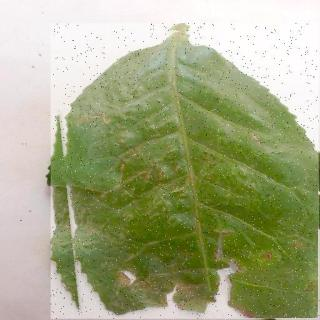Algal Leaf: (52, 25, 320, 320)
